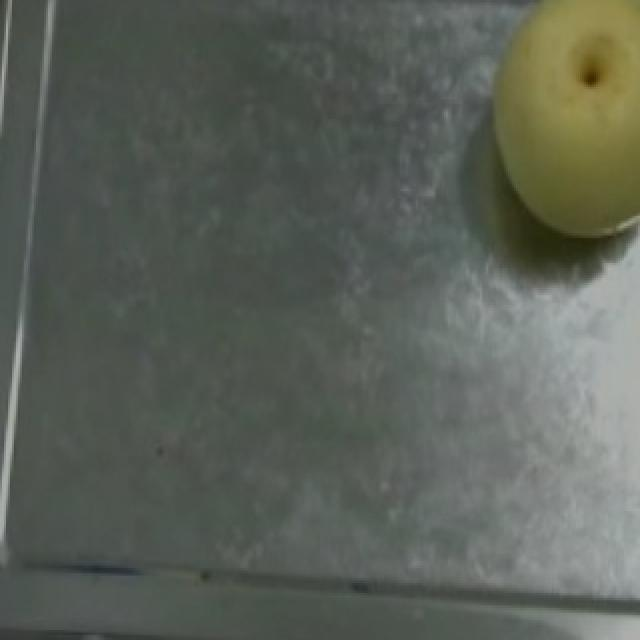Fruit: (456, 0, 640, 260)
